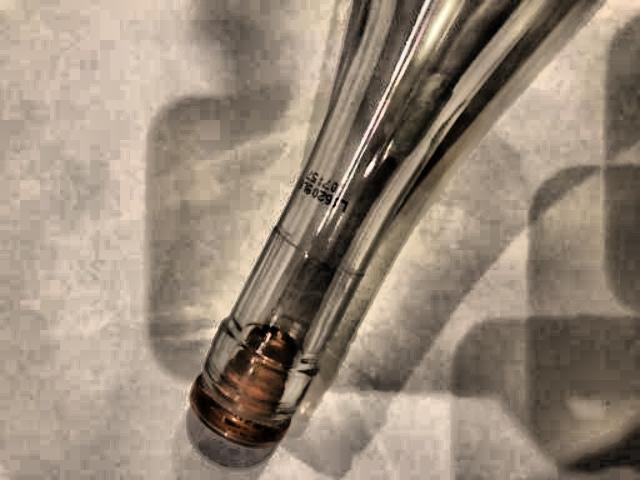Bottles: (161, 0, 612, 480)
